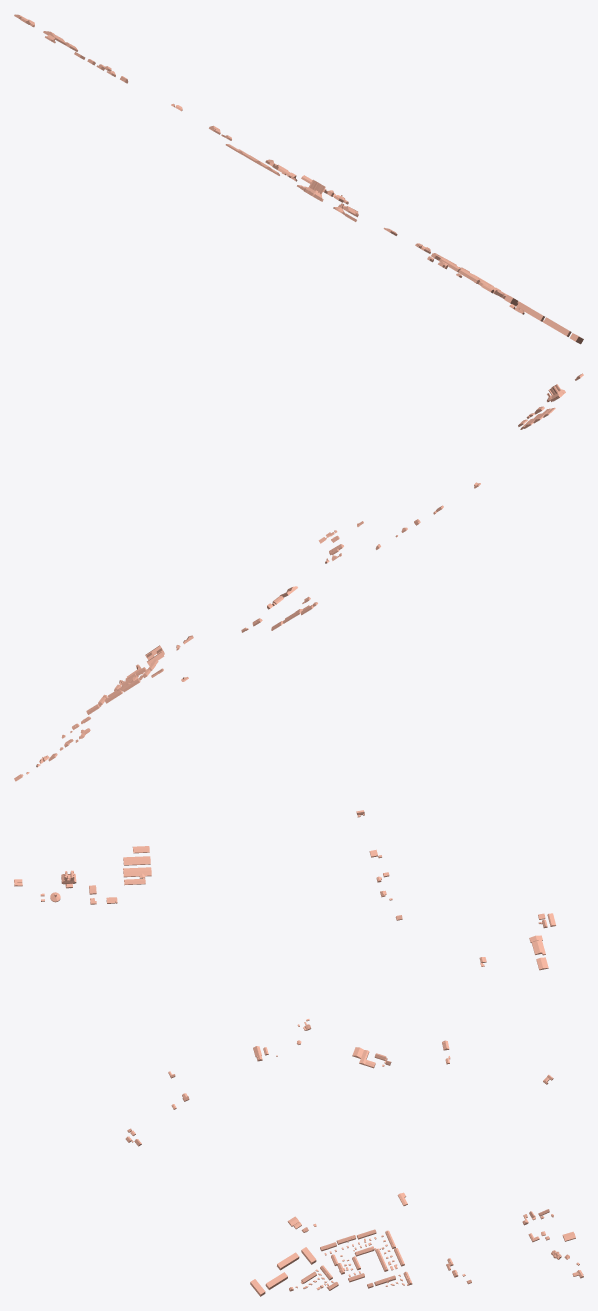
The picture shows the model from 3 angles, top to bottom: view 1: azimuth 30°, elevation 25°; view 2: azimuth 150°, elevation 25°; view 3: azimuth 270°, elevation 25°; orthographic projection. The views are drawn at different scales.
Bounding box in the file's own units: 975 × 738 × 1261.
